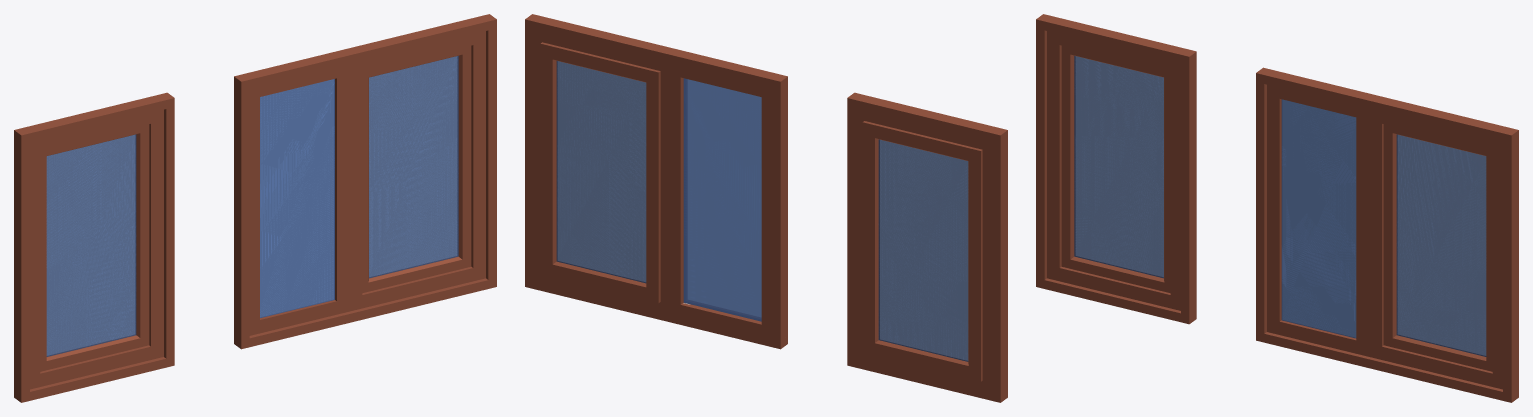
File: window.dae
The picture shows the model from 3 angles, left to right: view 1: azimuth 30°, elevation 25°; view 2: azimuth 150°, elevation 25°; view 3: azimuth 330°, elevation 25°; orthographic projection.
Visible parts, largest first — view 1: group_16 (×3), group_9 (×3), group_2 (×2), group_1, group_12, group_5, group_8, group_7, group_14, group_3, group_13, group_6 (+2 smaller); view 2: group_9 (×3), group_16 (×3), group_2 (×2), group_5 (×2), group_1, group_12, group_8, group_7, group_14, group_15, group_3, group_13 (+2 smaller); view 3: group_9 (×3), group_16 (×3), group_2 (×2), group_1, group_12, group_5, group_8, group_13, group_6, group_3, group_7, group_14 (+2 smaller).
Boxes of the visible parts, <box> form: group_16 (×3): <box>40,124,149,371</box>; group_9 (×3): <box>362,45,471,293</box>; group_2 (×2): <box>260,79,334,317</box>; group_1: <box>349,31,485,311</box>; group_12: <box>30,109,163,389</box>; group_5: <box>249,64,349,335</box>; group_8: <box>234,14,496,90</box>; group_7: <box>234,85,249,340</box>; group_14: <box>14,139,29,393</box>; group_3: <box>234,278,496,349</box>; group_13: <box>164,107,174,358</box>; group_6: <box>486,28,496,279</box>; group_9 (×3): <box>540,42,660,303</box>; group_16 (×3): <box>862,121,982,381</box>; group_2 (×2): <box>683,78,761,321</box>; group_5 (×2): <box>670,63,772,338</box>; group_1: <box>533,30,669,313</box>; group_12: <box>855,109,991,391</box>; group_8: <box>525,14,787,90</box>; group_7: <box>772,85,787,340</box>; group_14: <box>992,139,1007,393</box>; group_15: <box>847,92,1007,144</box>; group_3: <box>525,278,787,349</box>; group_13: <box>847,107,855,358</box>; group_9 (×3): <box>1383,124,1492,371</box>; group_16 (×3): <box>1061,45,1170,293</box>; group_2 (×2): <box>1281,99,1356,338</box>; group_1: <box>1369,109,1502,389</box>; group_12: <box>1047,31,1180,310</box>; group_5: <box>1267,84,1368,356</box>; group_8: <box>1256,67,1518,144</box>; group_13: <box>1181,60,1196,315</box>; group_6: <box>1503,139,1518,393</box>; group_3: <box>1256,332,1518,402</box>; group_7: <box>1256,82,1266,333</box>; group_14: <box>1036,28,1046,279</box>.
Size of the model in its own units: 110 by 3.81 by 59.06.
